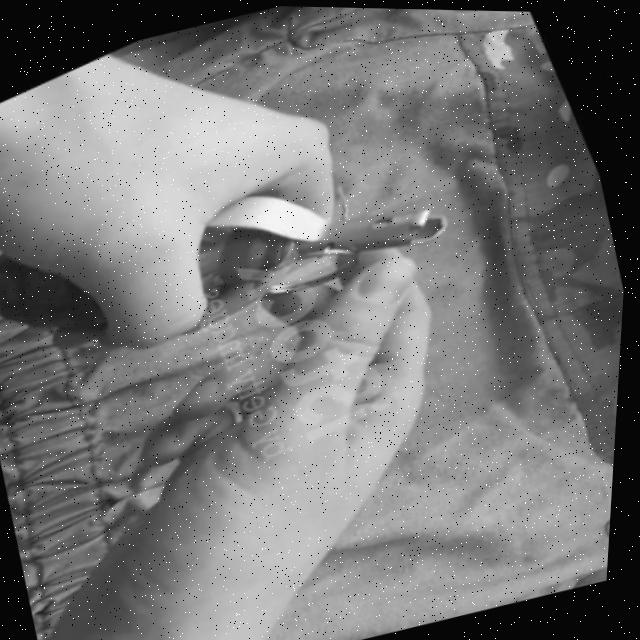grenade: (0, 58, 492, 430)
